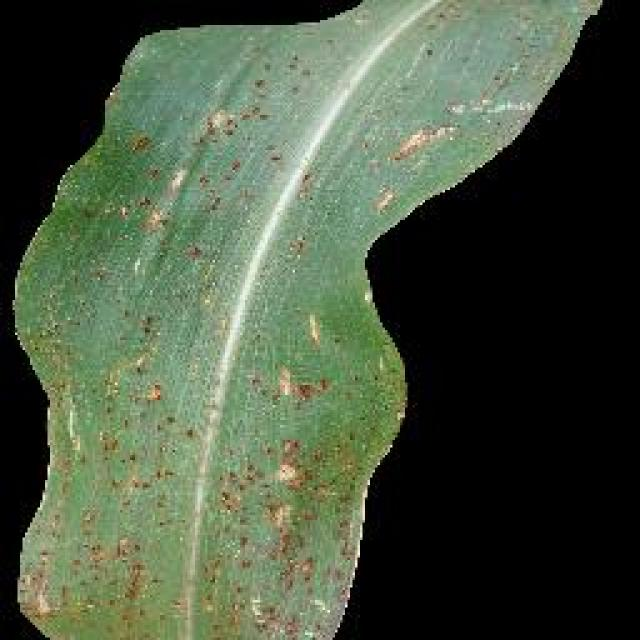Corn Common Rust: (103, 152, 532, 623)
